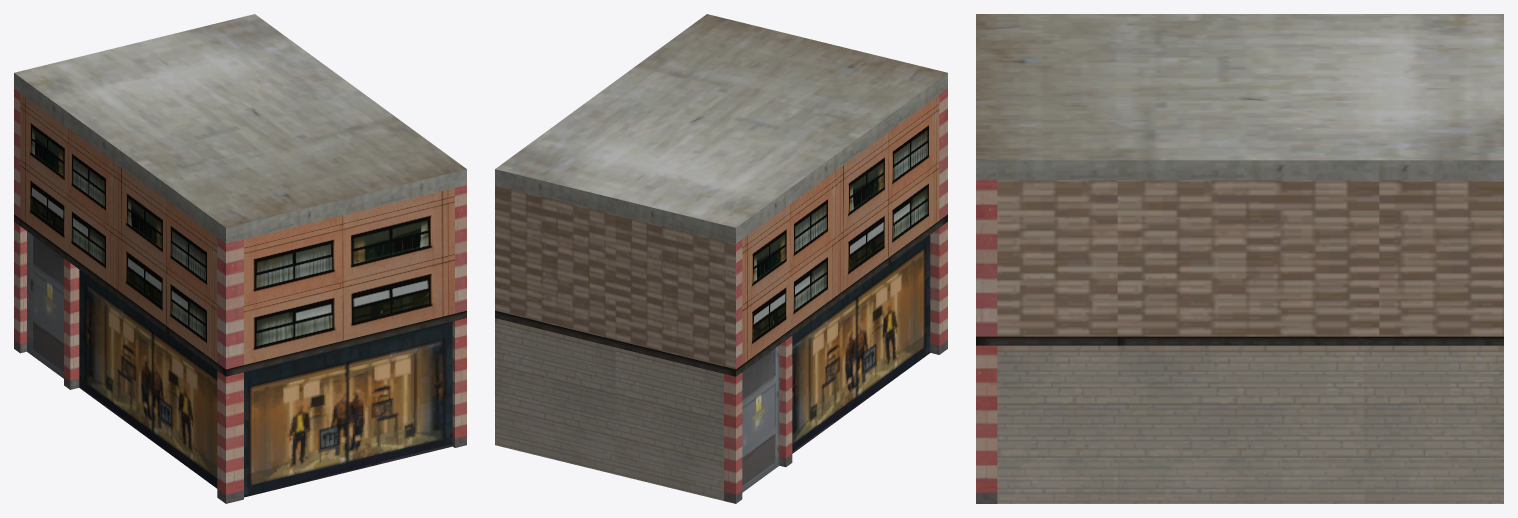
Rendered from Pizza_Delivery house34.fbx.
The picture shows the model from 3 angles, left to right: view 1: azimuth 30°, elevation 25°; view 2: azimuth 150°, elevation 25°; view 3: azimuth 270°, elevation 25°; orthographic projection. The views are drawn at different scales.
Parts seen in each view (by area): view 1: Pizza_Delivery:Pizza_Delivery:house34; view 2: Pizza_Delivery:Pizza_Delivery:house34; view 3: Pizza_Delivery:Pizza_Delivery:house34.
Part boxes in pixels (box(x1,y1,x2,y2)): Pizza_Delivery:Pizza_Delivery:house34: box(14, 14, 466, 503); Pizza_Delivery:Pizza_Delivery:house34: box(495, 14, 947, 503); Pizza_Delivery:Pizza_Delivery:house34: box(976, 14, 1503, 503).
Bounding box in the file's own units: 9 × 9.85 × 13.71.
